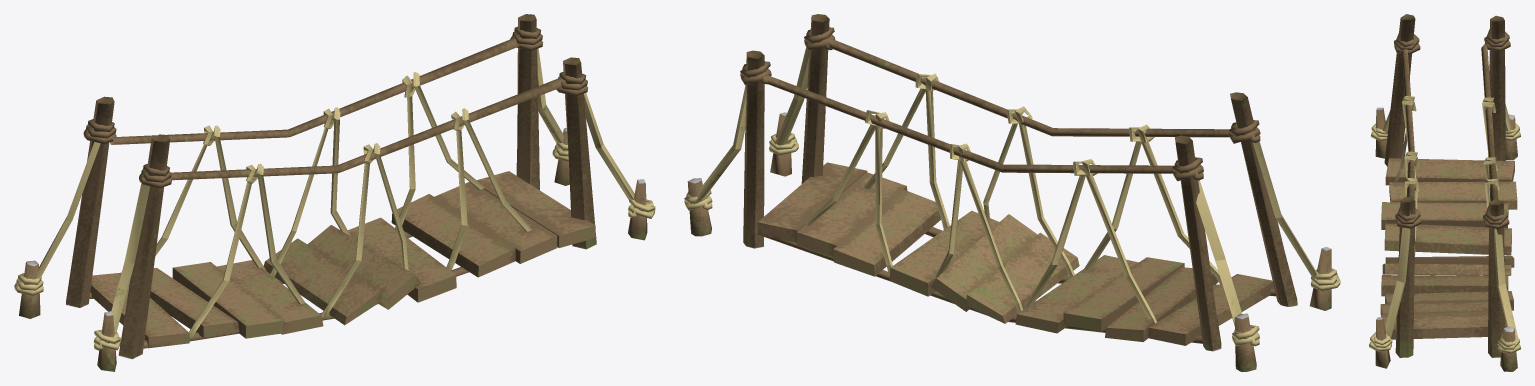
File: Puente de Madera II.fbx
3 views of the same model, side by side, from view 1: azimuth 30°, elevation 25°; view 2: azimuth 150°, elevation 25°; view 3: azimuth 270°, elevation 25° (orthographic). The views are drawn at different scales.
Visible parts, largest first — view 1: puente1.004, puente1.007, puente1.015, puente1.016, puente1.003, puente1.009, puente1.031, puente1.036, puente1.006, puente1.013, puente1.001, puente1.005 (+21 smaller); view 2: puente1.004, puente1.007, puente1.014, puente1.016, puente1.006, puente1.009, puente1.015, puente1.003, puente1.031, puente1.036, puente1.005, puente1.001 (+21 smaller); view 3: puente1.008, puente1.012, puente1.010, puente1.001, puente1.009, puente1.013, puente1.015, puente1.016, puente1.014, puente1.005, puente1.006, puente1.023 (+24 smaller).
Boxes of the visible parts, x1,y1,x2,y2 form: puente1.004: (391,194,515,277); puente1.007: (263,238,381,325); puente1.015: (118,134,170,359); puente1.016: (66,96,114,307); puente1.003: (434,182,557,263); puente1.009: (172,262,283,338); puente1.031: (110,38,519,144); puente1.036: (171,78,565,180); puente1.006: (307,225,420,309); puente1.013: (563,57,596,249); puente1.001: (477,171,595,247); puente1.005: (348,217,456,302); puente1.004: (833,189,943,276); puente1.007: (965,232,1079,323); puente1.014: (743,50,764,248); puente1.016: (1175,135,1221,351); puente1.006: (930,214,1037,311); puente1.009: (1063,257,1184,331); puente1.015: (1230,92,1297,306); puente1.003: (796,172,907,257); puente1.031: (765,75,1174,173); puente1.036: (823,37,1237,137); puente1.005: (889,210,999,296); puente1.001: (757,162,867,242); puente1.008: (1384,223,1511,255); puente1.012: (1385,158,1514,185); puente1.010: (1389,181,1517,209); puente1.001: (1381,311,1506,339); puente1.009: (1381,202,1508,229); puente1.013: (1395,196,1415,357); puente1.015: (1384,14,1415,166); puente1.016: (1488,15,1505,160); puente1.014: (1488,199,1505,357); puente1.005: (1381,275,1508,296); puente1.006: (1382,263,1511,275); puente1.023: (1385,213,1410,338).
Bounding box in the file's own units: 1954 × 755 × 560.
Materials: 1 (1 with a texture image).
